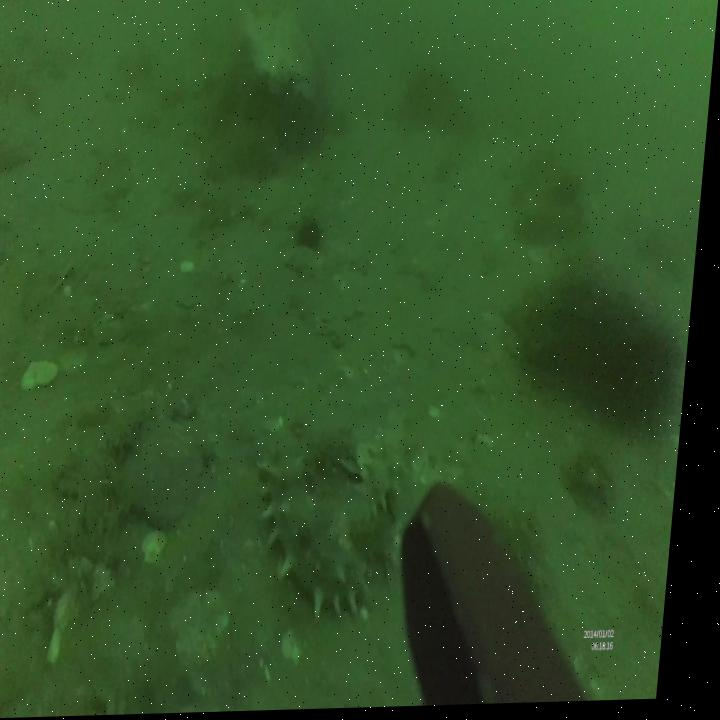holothurian: (262, 456, 397, 628), (360, 479, 416, 579)
